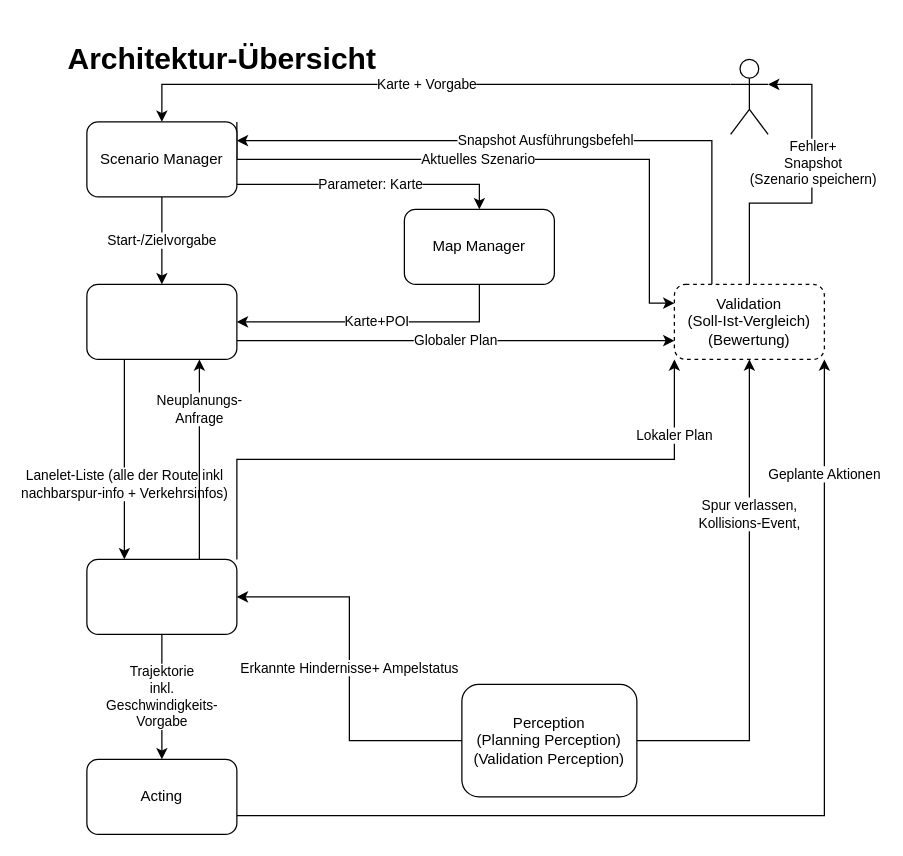
This 903x856 diagram has some shape labels left out. The centre of each missing label's shape, as x and y in pixels:
"Actor" belongs at pixel 748 96.
"Global Planning" belongs at pixel 161 321.
"Local Planning" belongs at pixel 161 596.
